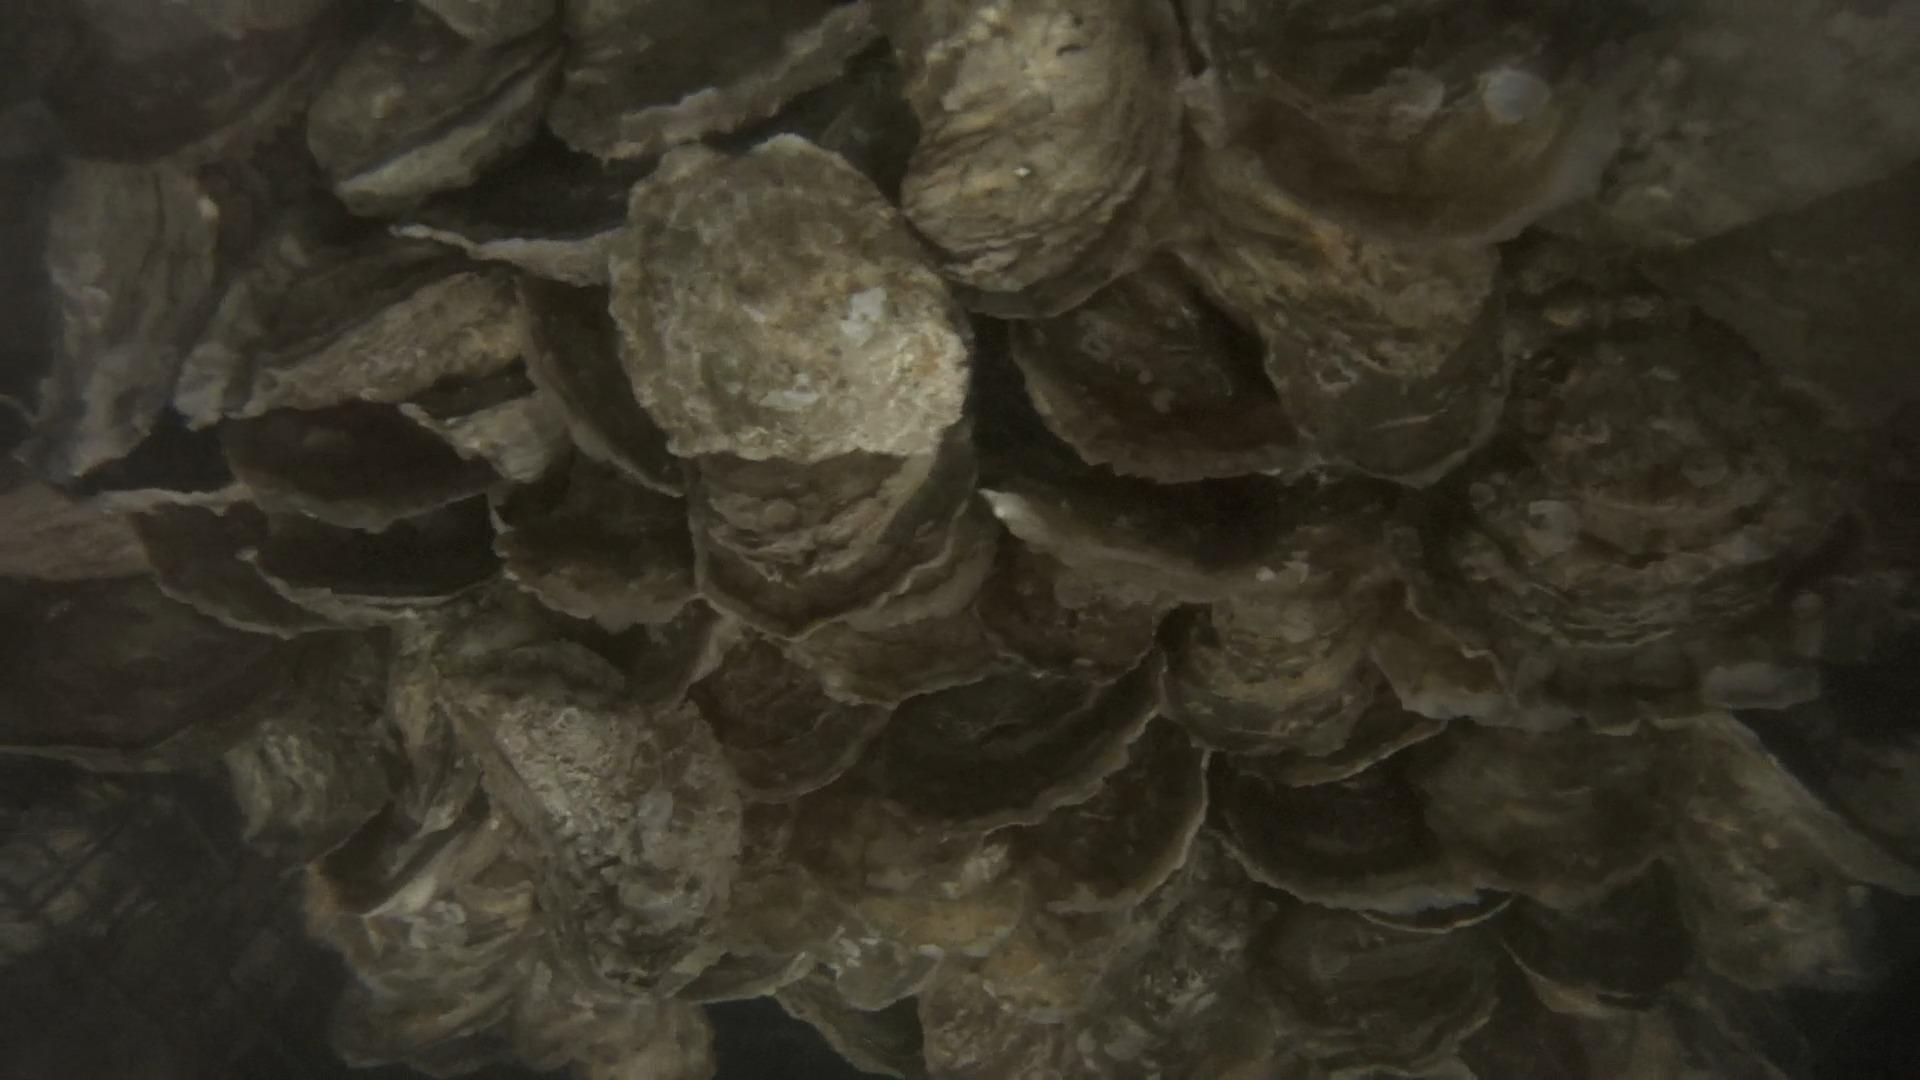3: (179, 182, 534, 425), (682, 439, 980, 637), (1218, 785, 1522, 934)
Oyster- Indeterminate: (1385, 324, 1840, 709), (1176, 107, 1503, 491), (612, 136, 975, 458), (313, 822, 680, 1080), (1625, 709, 1920, 1004), (1163, 547, 1447, 767), (1034, 272, 1299, 484), (44, 171, 222, 477)
Oyster-Closed: (413, 644, 742, 973)
